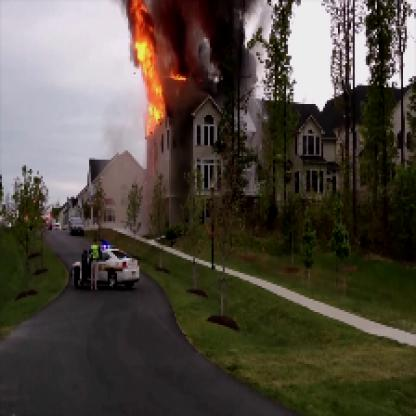Fire: (130, 2, 188, 139)
Smoke: (156, 2, 262, 102)
